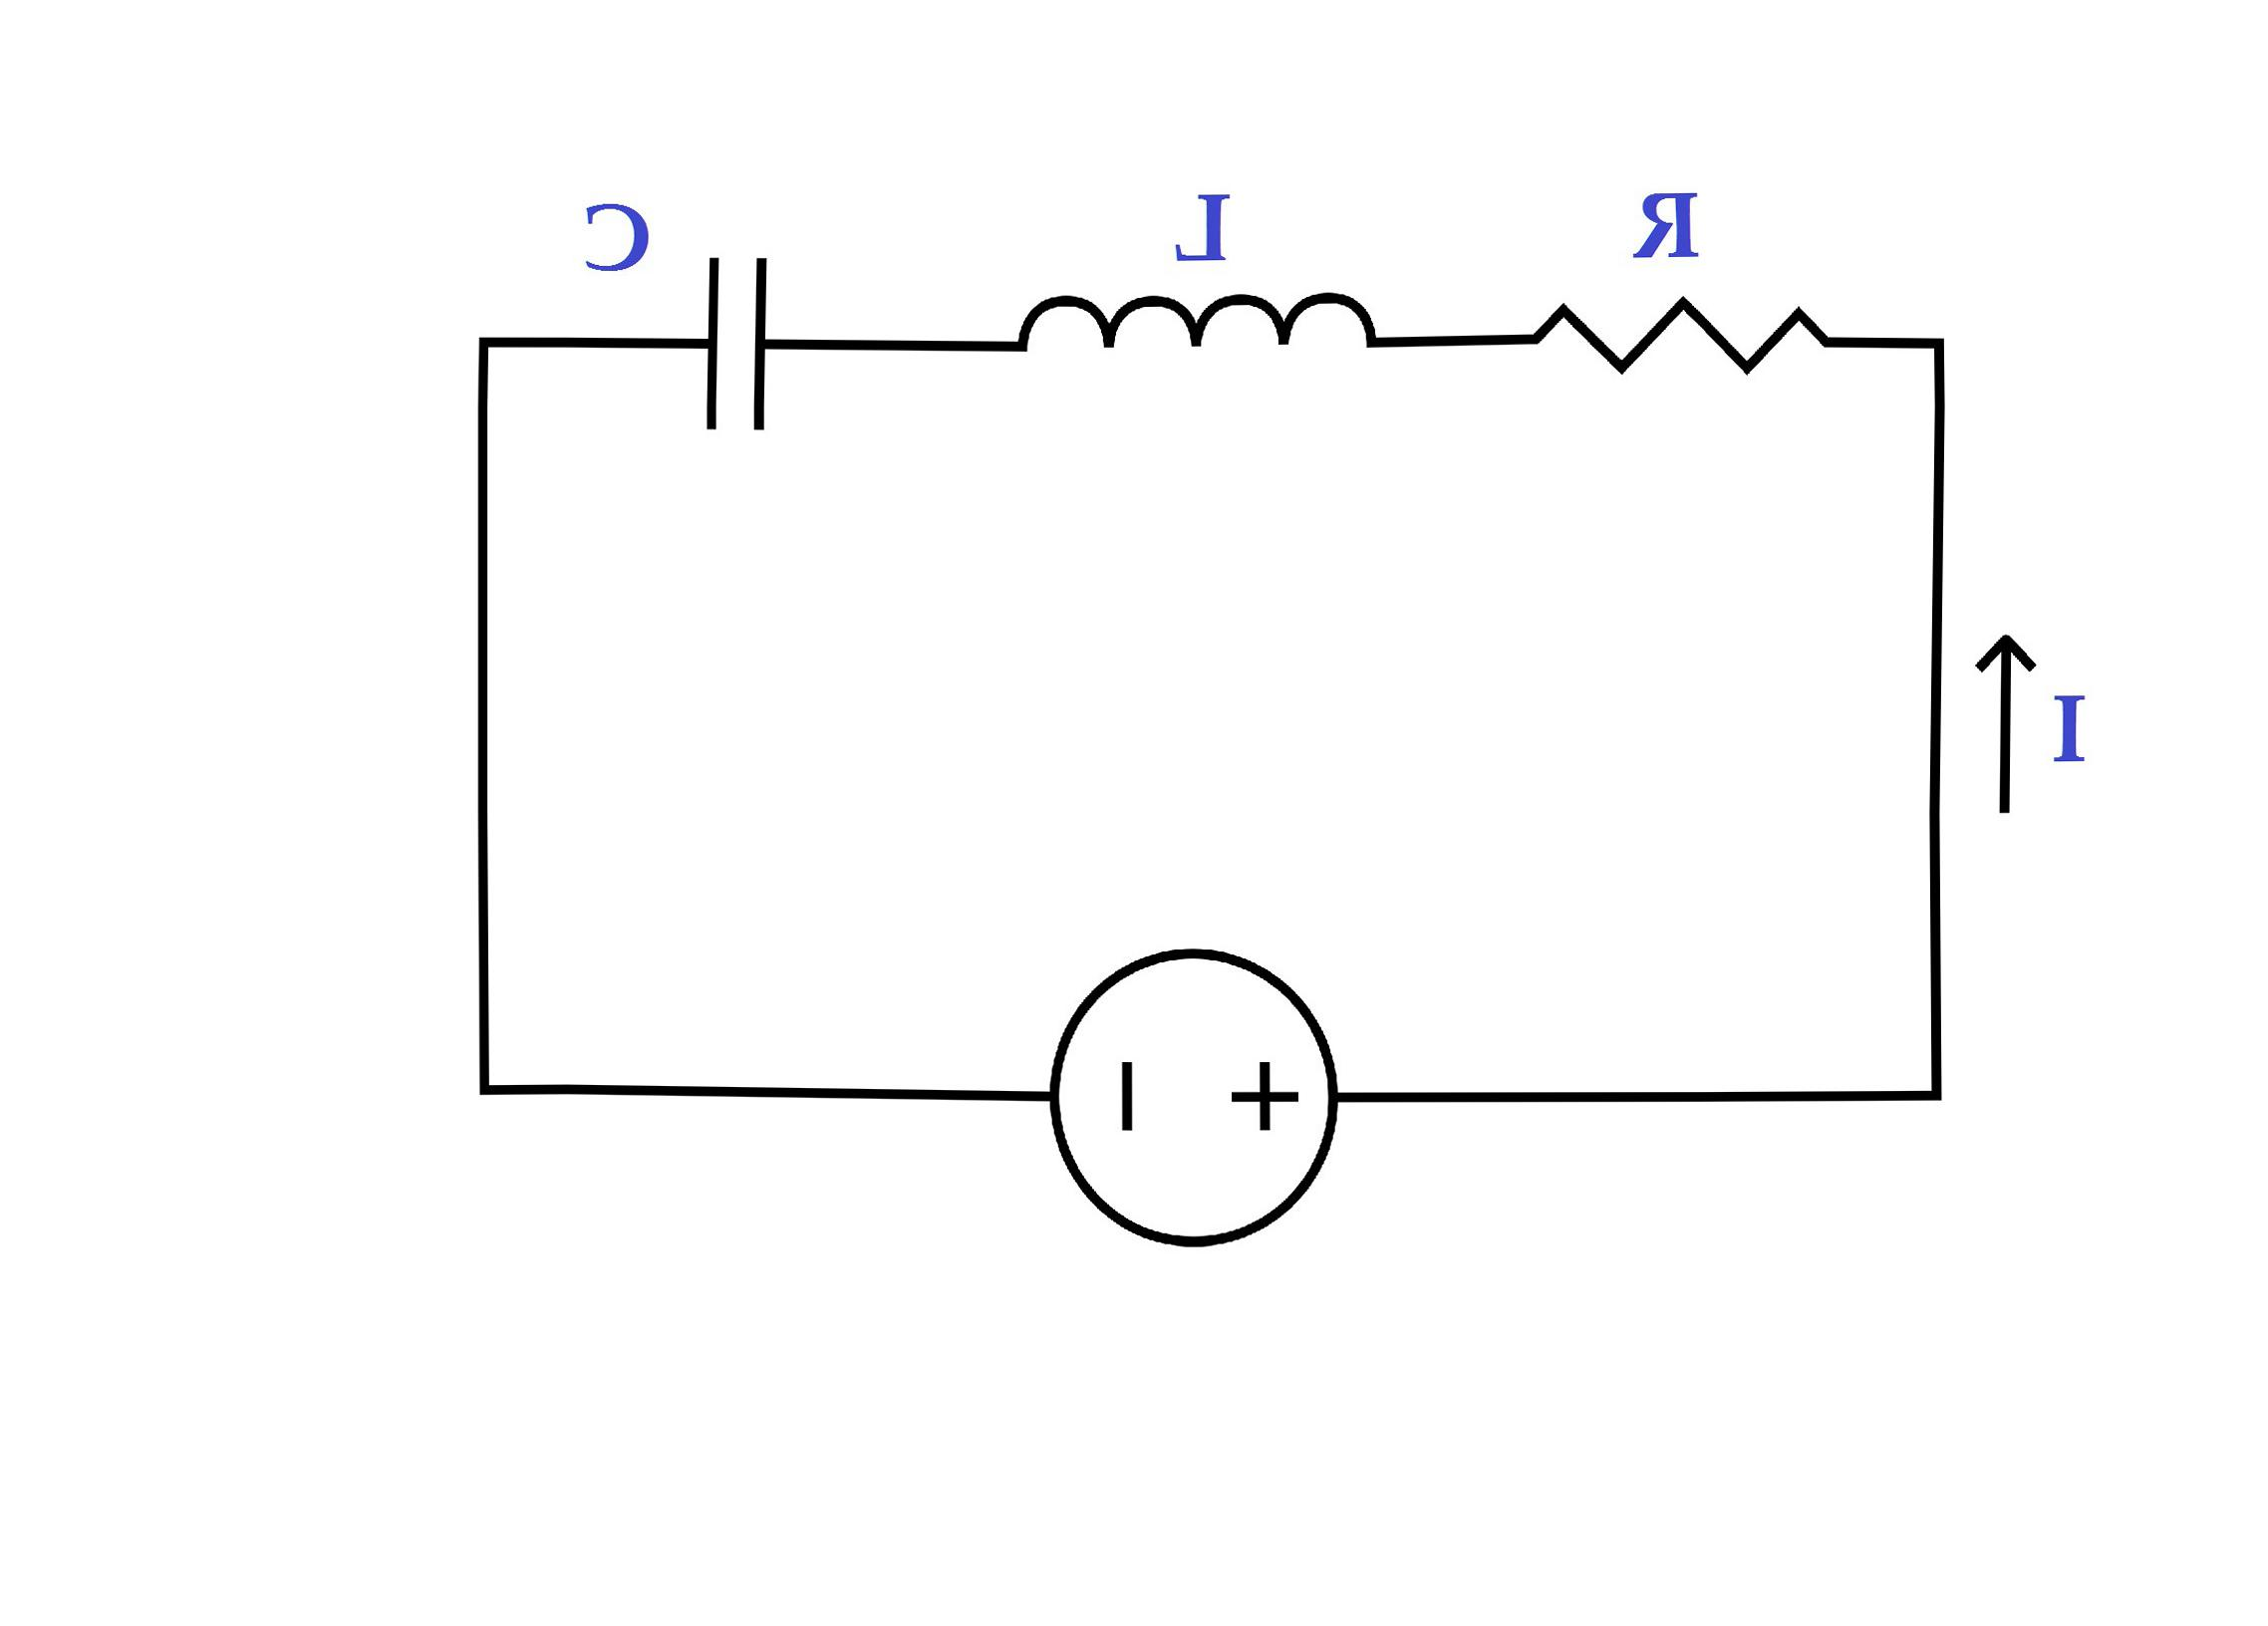Battery: (978, 887, 1385, 1330)
